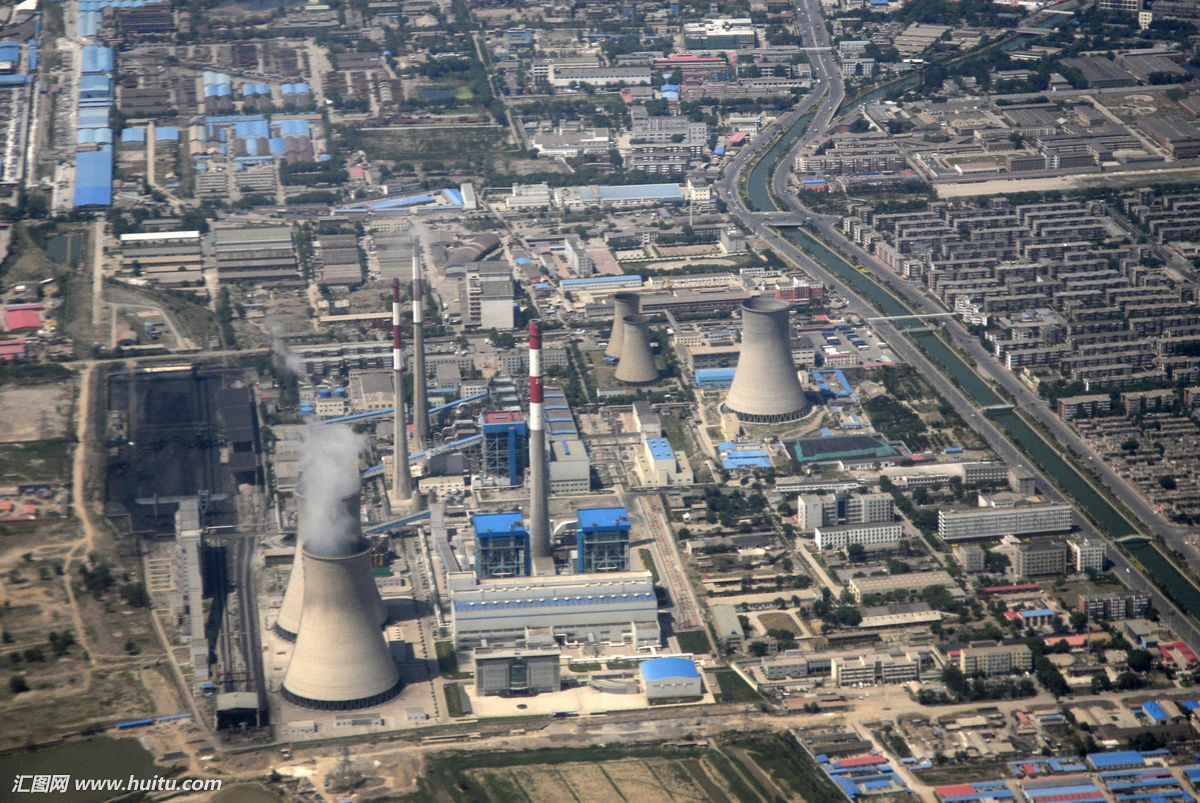dust: (273, 424, 389, 573)
